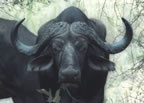buffalo: (11, 5, 132, 103)
